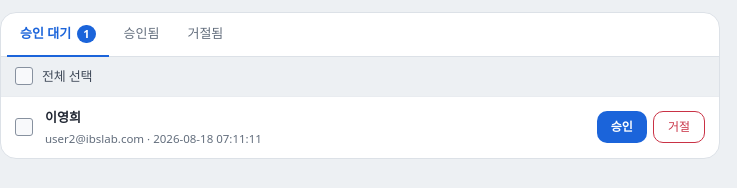
Test: UserApprovalList › 탭을 옮기면 선택이 비워진다
expect the text "이영희" is shown: met, box [45,108,81,126]
Click the checkbox named "이영희 선택". click: (24, 127)
box: [15,118,33,136]
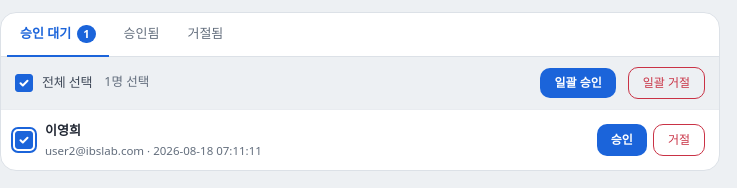
expect the text "1명 선택" is shown: met, box [104,73,149,92]
Click the tab "승인됨". click: (141, 35)
box: [110,13,172,56]
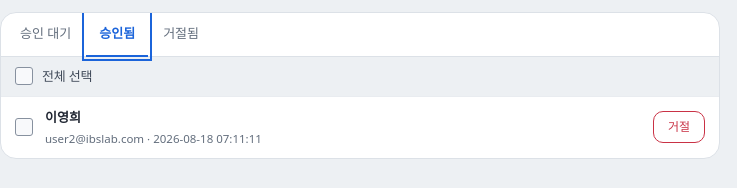
expect the text "1명 선택" is gone: met
